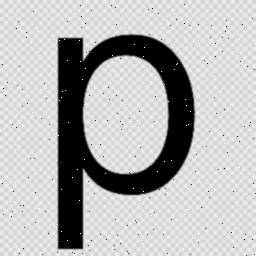p: (51, 28, 201, 254)
